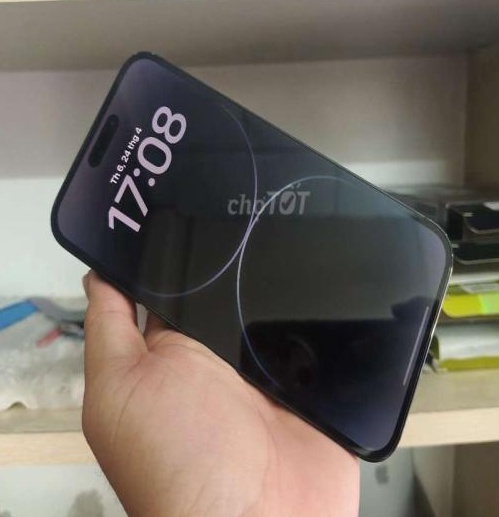scratch: (110, 37, 170, 72)
